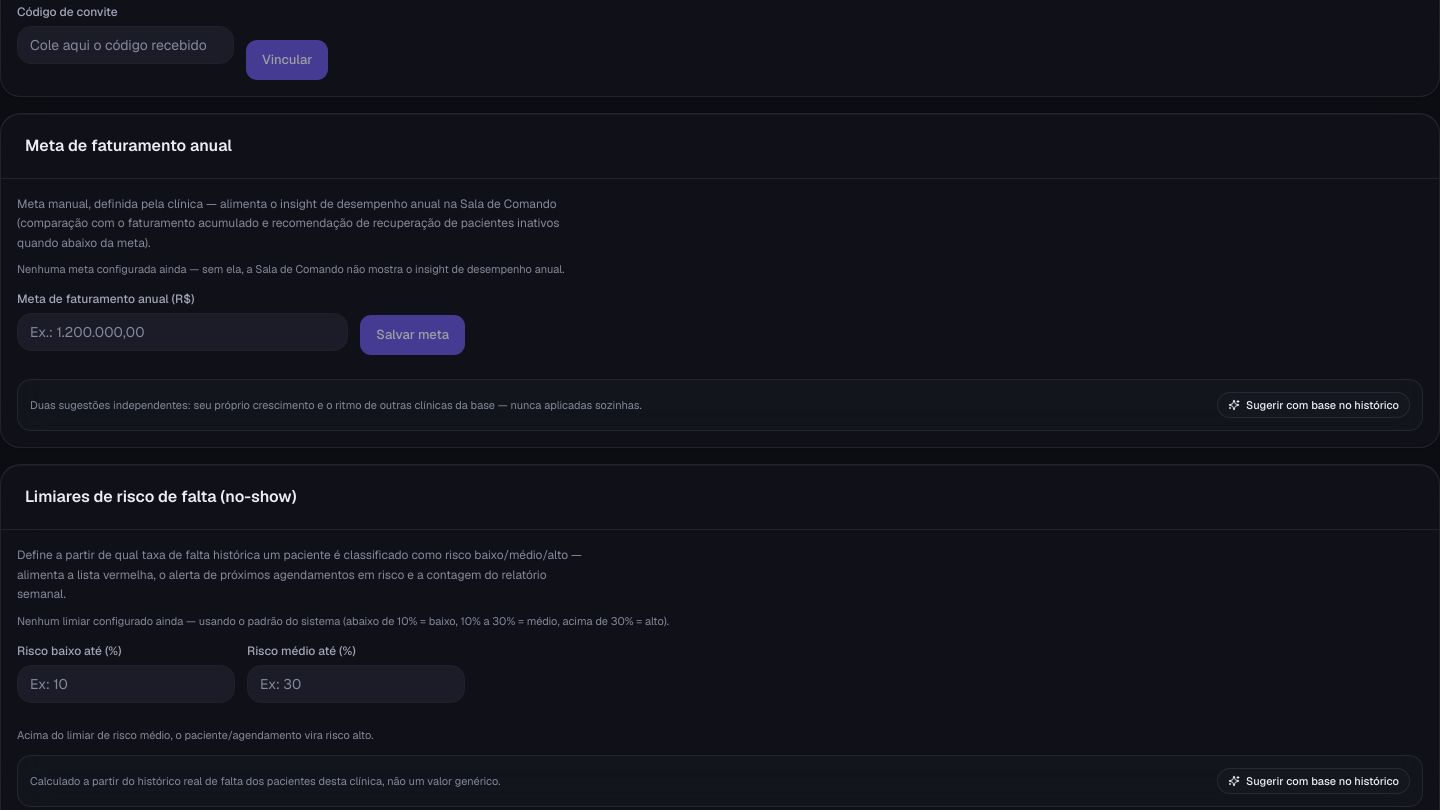
Test: TenantPage — Épico F2.1 do Plano Diretor (Calibração por especialidade/porte) › mostra mensagem honesta quando a sugestão de meta anual não tem base suficiente
(page scrolled)
Check: the heading "Meta de faturamento anual" is shown, box [25, 134, 232, 158]
Step 1. Click the 1st button "Sugerir com base no histórico" → [1314, 405], box [1217, 392, 1410, 418]
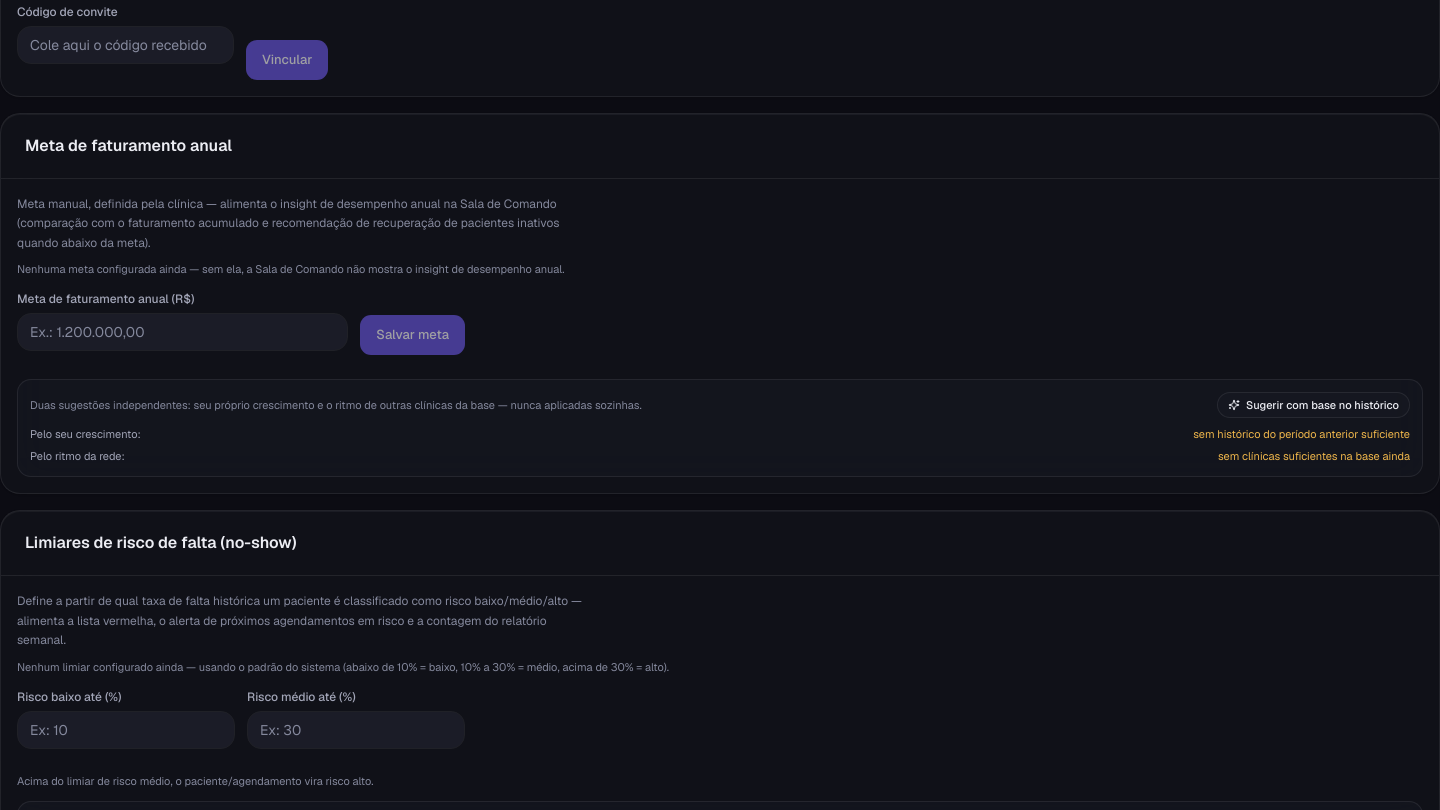
Check: the text "sem histórico do período anterior suficiente" is shown, box [1193, 426, 1410, 442]
Check: the text "sem clínicas suficientes na base ainda" is shown, box [1218, 448, 1410, 464]
